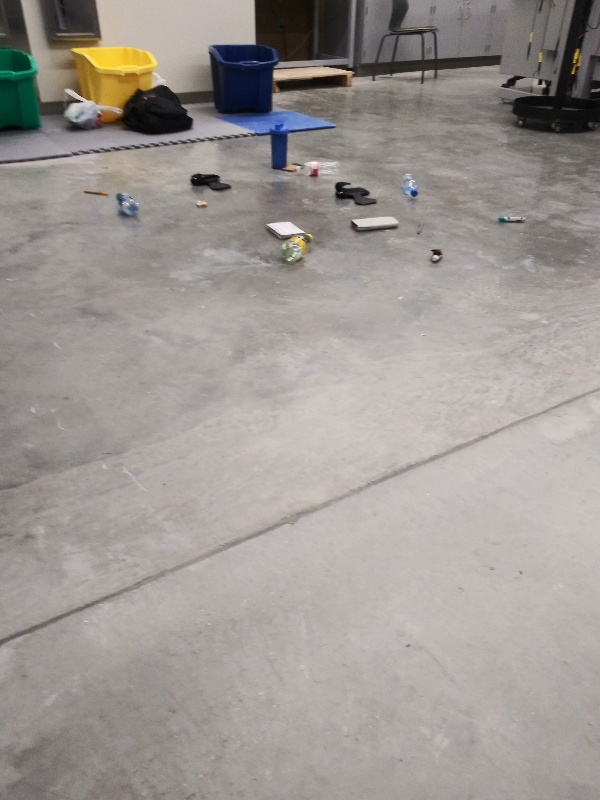bottle: (278, 231, 317, 265), (291, 159, 342, 178), (114, 190, 143, 218), (394, 171, 422, 200)
